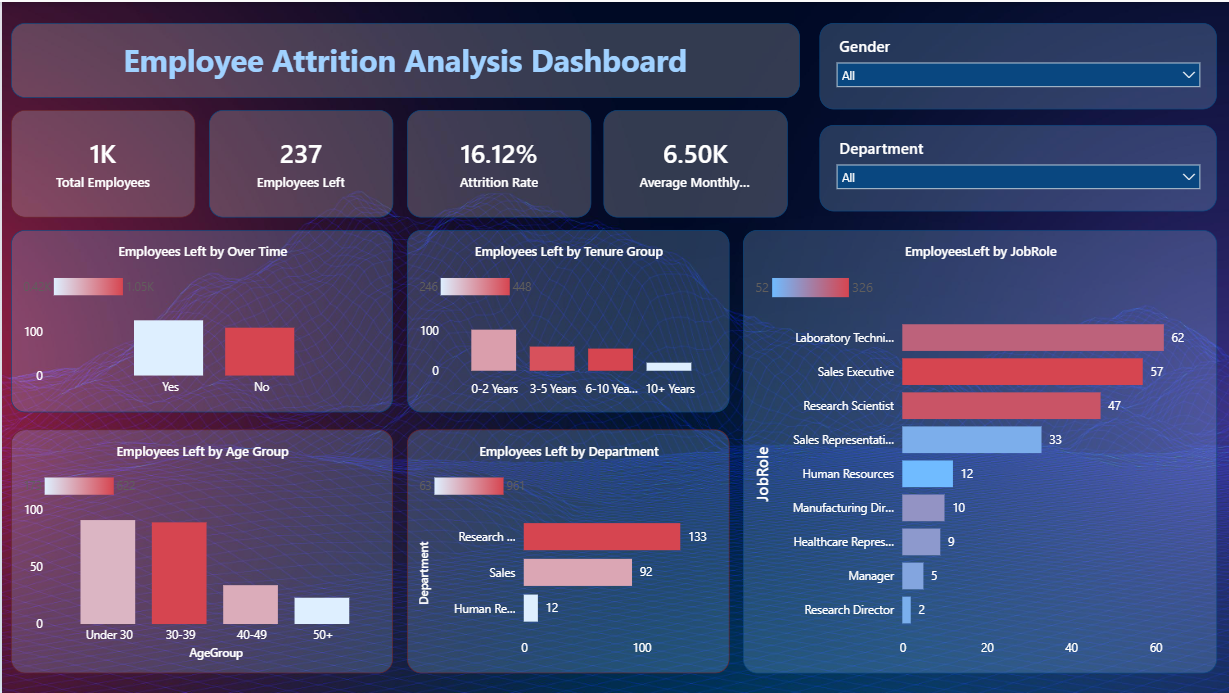

The page's visual inventory and layout, read from the dashboard file:
{"tool":"powerbi","page":{"name":"Page 1","canvas":[1280,720],"ordinal":0},"visuals":[{"type":"cardVisual","fields":{"Data":["employee_attrition.TotalEmployees"]},"box":[10,112,192,112],"z":0},{"type":"cardVisual","fields":{"Data":["employee_attrition.EmployeesLeft"]},"box":[216,112,192,112],"z":1000},{"type":"cardVisual","fields":{"Data":["employee_attrition.AttritionRate"]},"box":[422,112,192,112],"z":2000},{"type":"cardVisual","fields":{"Data":["employee_attrition.AverageMonthlyIncome"]},"box":[626,112,192,112],"z":3000},{"type":"clusteredBarChart","title":"Employees Left by Department","fields":{"Category":["employee_attrition.Department"],"Y":["employee_attrition.EmployeesLeft"]},"box":[422,446,336,254],"z":4000},{"type":"clusteredBarChart","fields":{"Category":["employee_attrition.JobRole"],"Y":["employee_attrition.EmployeesLeft"]},"box":[772,238,494,462],"z":5000},{"type":"clusteredColumnChart","title":"Employees Left by Over Time","fields":{"Y":["employee_attrition.EmployeesLeft"],"Category":["employee_attrition.OverTime"]},"box":[10,238,398,190],"z":6000},{"type":"clusteredColumnChart","title":"Employees Left by Age Group","fields":{"Category":["employee_attrition.AgeGroup"],"Y":["employee_attrition.EmployeesLeft"]},"box":[10,446,398,254],"z":7000},{"type":"columnChart","title":"Employees Left by Tenure Group","fields":{"Category":["employee_attrition.TenureGroup"],"Y":["employee_attrition.EmployeesLeft"]},"box":[422,238,336,190],"z":8000},{"type":"slicer","fields":{"Values":["employee_attrition.Department"]},"box":[852,128,414,90],"z":9000},{"type":"slicer","fields":{"Values":["employee_attrition.Gender"]},"box":[852,22,414,90],"z":10000},{"type":"textbox","box":[10,22,822,78],"z":11000}]}

Visuals, with their boxes in screenshot pixels (x1, y1, x2, y2), scaled from the page's 1280x720 canvas onto the 1229x693 screenshot:
cardVisual - employee_attrition.TotalEmployees: [10,108,194,216]
cardVisual - employee_attrition.EmployeesLeft: [207,108,392,216]
cardVisual - employee_attrition.AttritionRate: [405,108,590,216]
cardVisual - employee_attrition.AverageMonthlyIncome: [601,108,785,216]
"Employees Left by Department" clusteredBarChart: [405,429,728,674]
clusteredBarChart - employee_attrition.JobRole x employee_attrition.EmployeesLeft: [741,229,1216,674]
"Employees Left by Over Time" clusteredColumnChart: [10,229,392,412]
"Employees Left by Age Group" clusteredColumnChart: [10,429,392,674]
"Employees Left by Tenure Group" columnChart: [405,229,728,412]
slicer - employee_attrition.Department: [818,123,1216,210]
slicer - employee_attrition.Gender: [818,21,1216,108]
textbox: [10,21,799,96]
